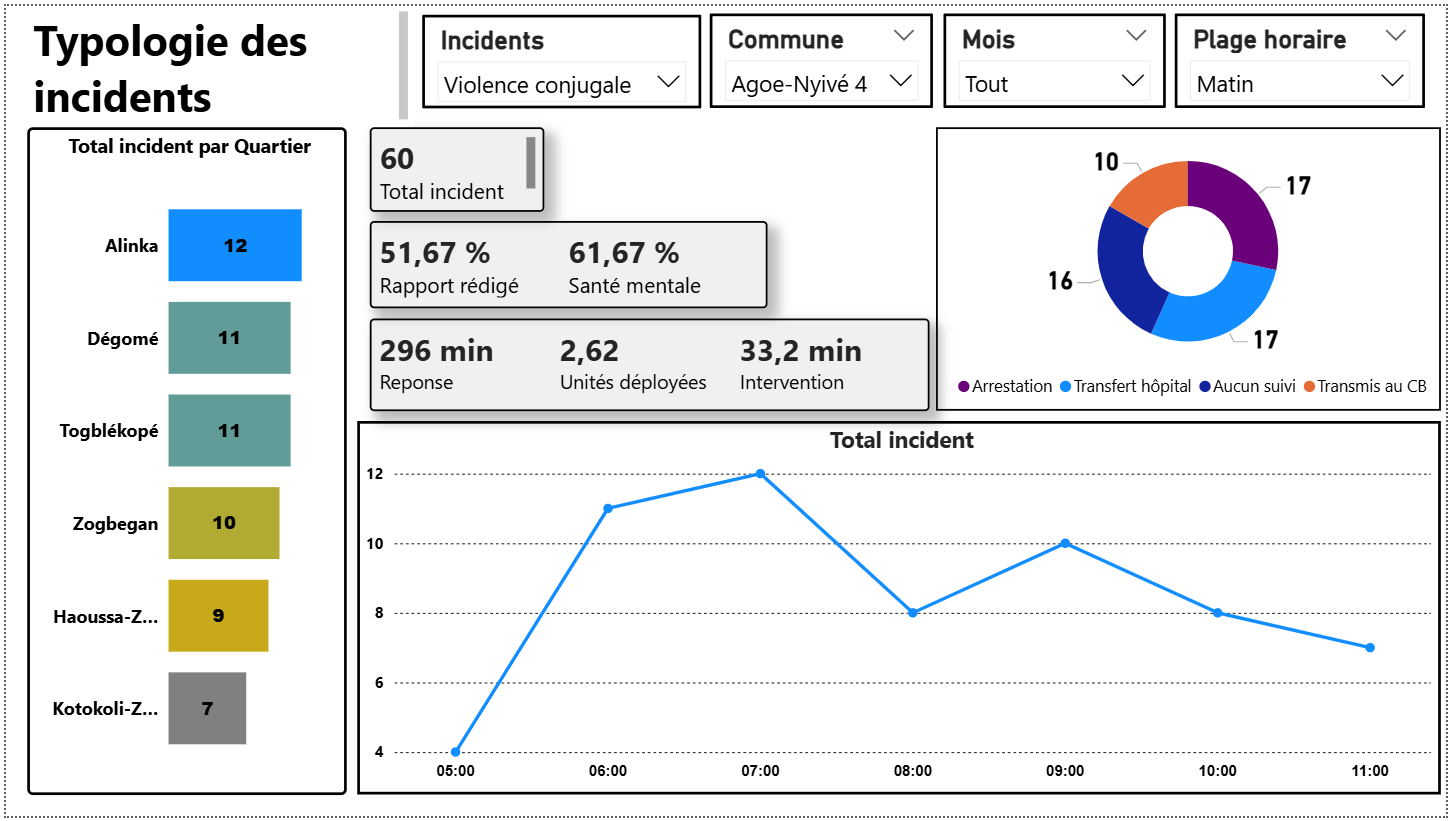

The page's visual inventory and layout, read from the dashboard file:
{"tool":"powerbi","page":{"name":"Typologie des incidents","canvas":[1280,720],"ordinal":3},"visuals":[{"type":"slicer","fields":{"Values":["incidents_grand_lome.Commune"]},"box":[626,7,198.8,83.8],"z":0},{"type":"slicer","fields":{"Values":["incidents_grand_lome.Type_incident"]},"box":[370,7.8,247.8,83.3],"z":1000},{"type":"slicer","fields":{"Values":["incidents_grand_lome.Date_appel.Variation.Hiérarchie de dates.Mois"]},"box":[833.5,7,197.5,83.8],"z":2000},{"type":"slicer","fields":{"Values":["incidents_grand_lome.Segment_horaire_appel"]},"box":[1038.5,7,222.5,83.8],"z":3000},{"type":"donutChart","fields":{"Category":["incidents_grand_lome.Conclusion_appel"],"Series":["incidents_grand_lome.Conclusion_appel"],"Y":["incidents_grand_lome.Total incident"]},"box":[826.7,107.8,448.9,252.2],"z":4000},{"type":"clusteredBarChart","title":"Total incident par Quartier","fields":{"Category":["incidents_grand_lome.Quartier"],"Y":["incidents_grand_lome.Total incident"]},"box":[18.8,107.5,283.8,593.8],"z":5000},{"type":"lineChart","title":"Total incident","fields":{"Y":["incidents_grand_lome.Total incident"],"Category":["incidents_grand_lome.HeureFormatée"]},"box":[312.2,368.9,963.3,332.2],"z":6000},{"type":"multiRowCard","fields":{"Values":["incidents_grand_lome.Total incident"]},"box":[323.3,107.8,155.6,75.6],"z":7000},{"type":"multiRowCard","fields":{"Values":["incidents_grand_lome.Rapport rédigé","incidents_grand_lome.Santé mentale"]},"box":[323.3,191.1,353.3,77.8],"z":8000},{"type":"multiRowCard","fields":{"Values":["incidents_grand_lome.Reponse","incidents_grand_lome.Unités déployées","incidents_grand_lome.Intervention"]},"box":[323.3,277.8,497.8,82.2],"z":9000},{"type":"textbox","box":[18.8,0,343.8,107.5],"z":10000}]}

Visuals, with their boxes in screenshot pixels (x1, y1, x2, y2), scaled from the page's 1280x720 canvas onto the 1451x821 screenshot:
slicer - incidents_grand_lome.Commune: region(710, 8, 935, 104)
slicer - incidents_grand_lome.Type_incident: region(419, 9, 700, 104)
slicer - incidents_grand_lome.Date_appel.Variation.Hiérarchie de dates.Mois: region(945, 8, 1169, 104)
slicer - incidents_grand_lome.Segment_horaire_appel: region(1177, 8, 1429, 104)
donutChart - incidents_grand_lome.Conclusion_appel x incidents_grand_lome.Conclusion_appel: region(937, 123, 1446, 410)
"Total incident par Quartier" clusteredBarChart: region(21, 123, 343, 800)
"Total incident" lineChart: region(354, 421, 1446, 799)
multiRowCard - incidents_grand_lome.Total incident: region(366, 123, 543, 209)
multiRowCard - incidents_grand_lome.Rapport rédigé x incidents_grand_lome.Santé mentale: region(366, 218, 767, 307)
multiRowCard - incidents_grand_lome.Reponse x incidents_grand_lome.Unités déployées: region(366, 317, 931, 410)
textbox: region(21, 0, 411, 123)
